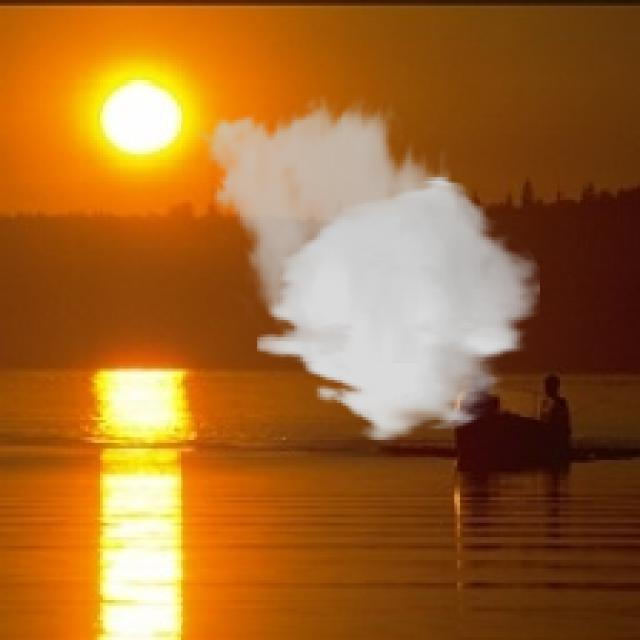Smoke: (191, 94, 540, 443)
